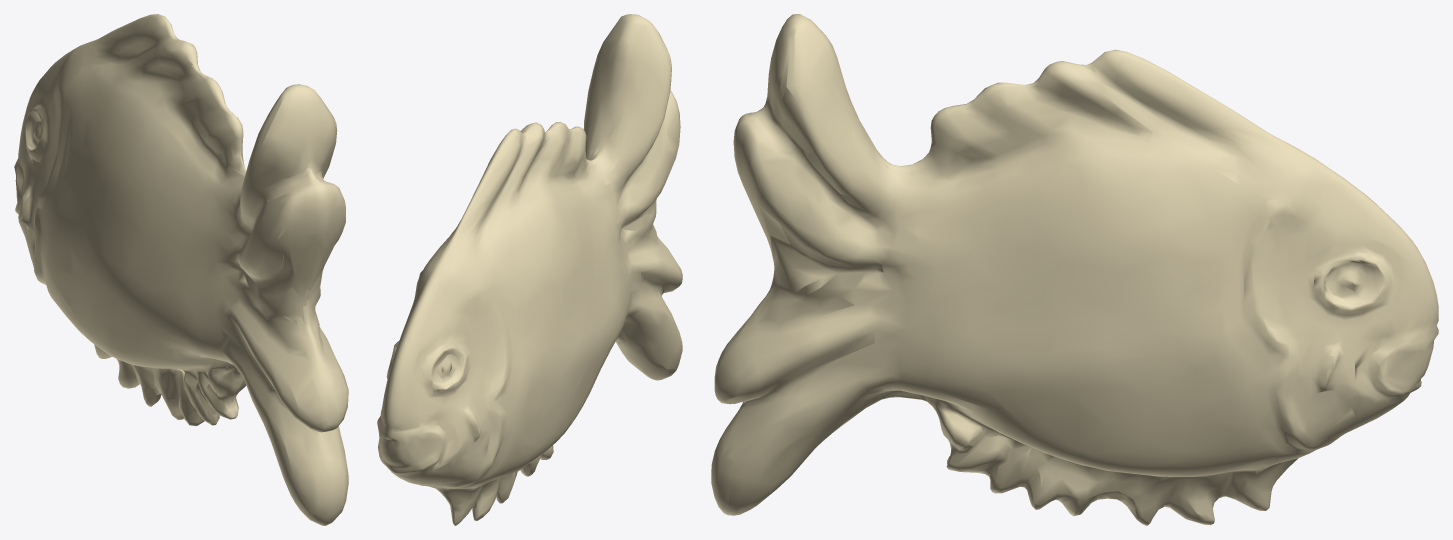
Rendered from Boong.fbx.
3 renders of one model, left to right at view 1: azimuth 30°, elevation 25°; view 2: azimuth 150°, elevation 25°; view 3: azimuth 270°, elevation 25°, orthographic. The views are drawn at different scales.
Visible parts, largest first — view 1: Quad_Sphere; view 2: Quad_Sphere; view 3: Quad_Sphere.
Part boxes in pixels (left/top/right/bottom): Quad_Sphere: left=14, top=14, right=348, bottom=525; Quad_Sphere: left=377, top=14, right=682, bottom=525; Quad_Sphere: left=711, top=14, right=1438, bottom=525.
Size of the model in its own units: 90.8 by 282 by 366.
